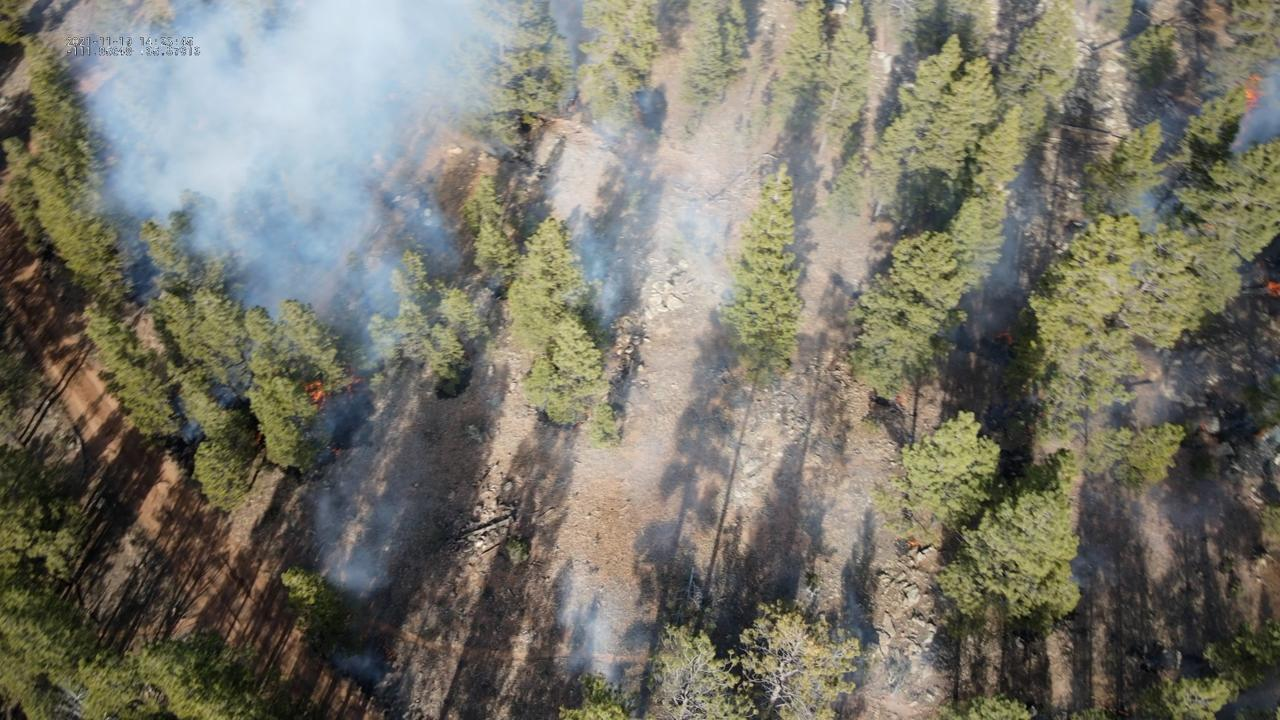fire: (1240, 74, 1272, 115), (337, 365, 365, 397), (304, 380, 327, 413), (1265, 280, 1280, 298), (994, 331, 1013, 345), (254, 429, 263, 446), (894, 394, 906, 406), (909, 540, 916, 546)
smoke: (72, 0, 744, 447), (945, 159, 1039, 343), (308, 489, 402, 598), (549, 588, 616, 685), (1222, 61, 1280, 159), (1119, 187, 1174, 235), (326, 650, 384, 684)
